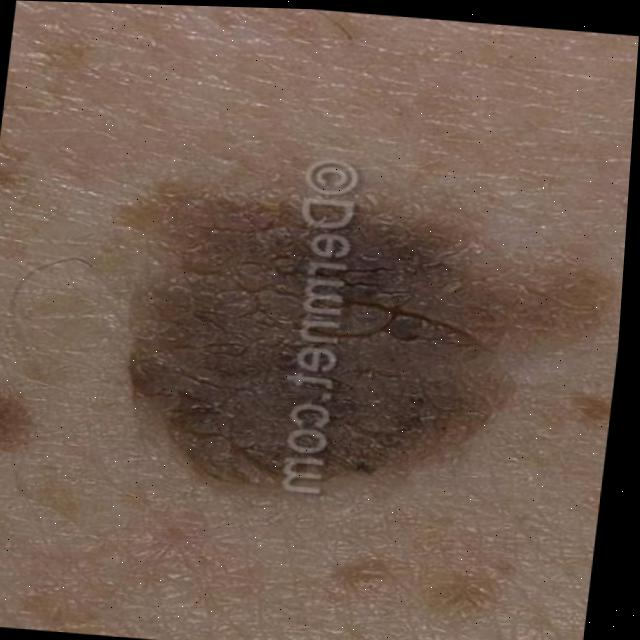Eczema: (102, 189, 527, 448), (0, 397, 45, 473)
